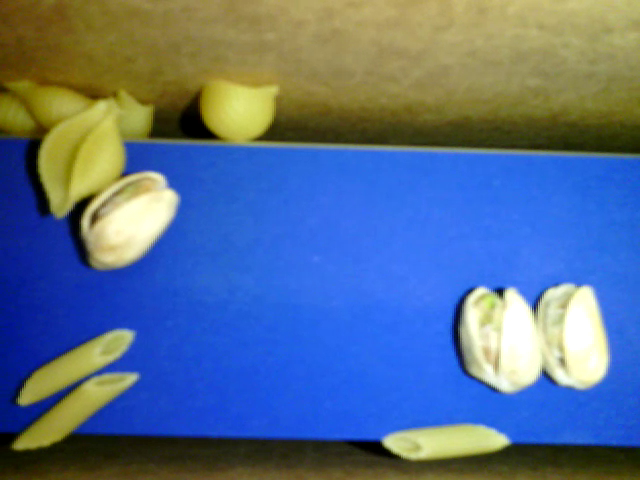penne: (7, 372, 143, 447), (16, 326, 136, 403), (381, 420, 510, 460)
shell: (33, 97, 125, 221), (192, 74, 279, 143), (1, 77, 98, 130), (107, 88, 155, 138), (1, 93, 54, 137)
